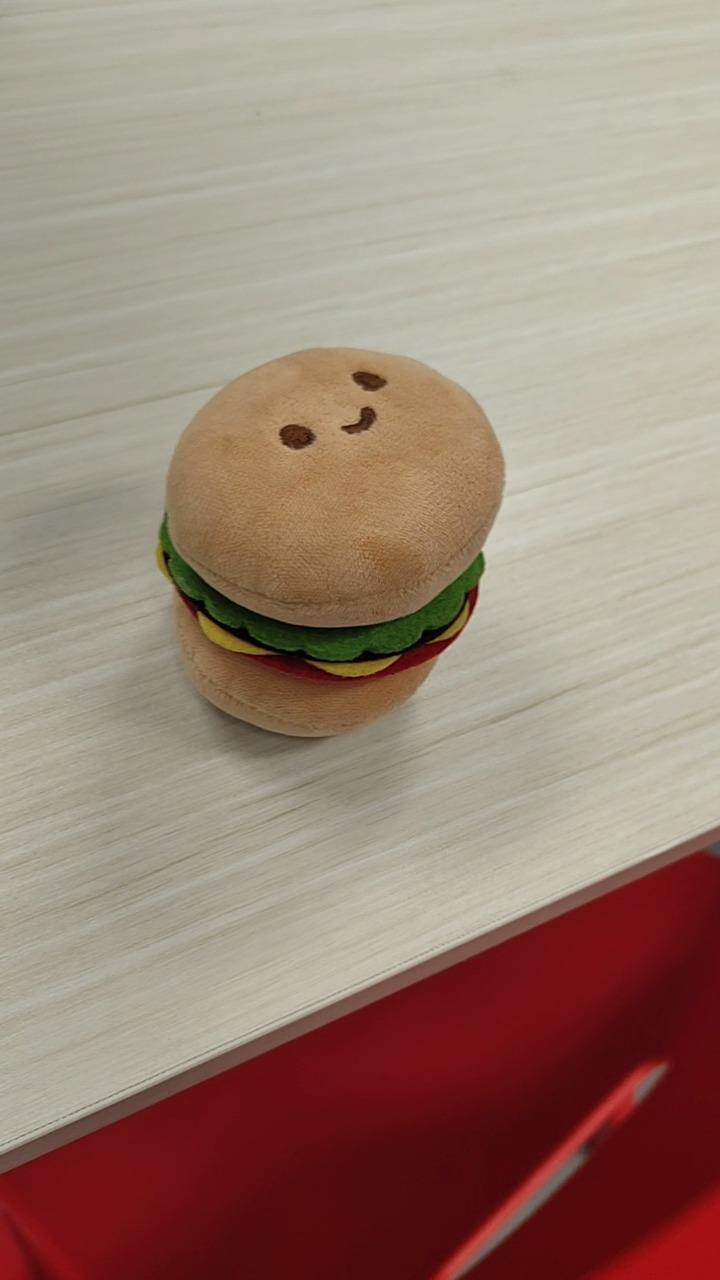hamburger: (154, 344, 506, 739)
